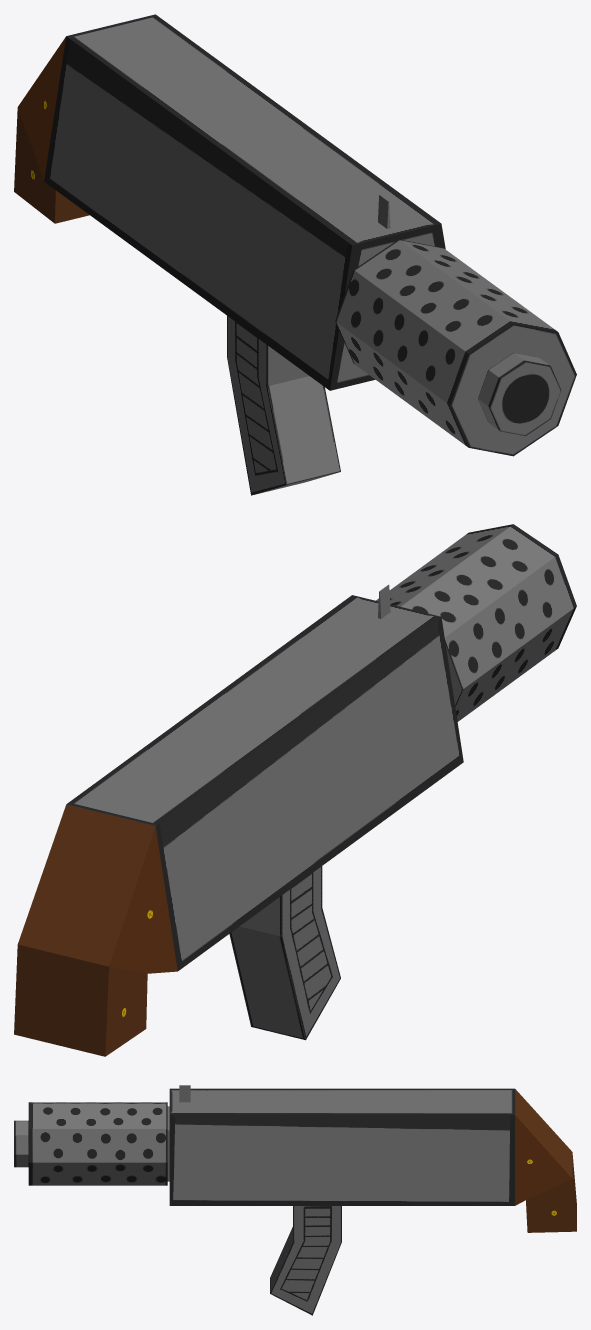
3 renders of one model, top to bottom at view 1: azimuth 30°, elevation 25°; view 2: azimuth 150°, elevation 25°; view 3: azimuth 270°, elevation 25°, orthographic. The views are drawn at different scales.
Visible parts, largest first — view 1: AK47; view 2: AK47; view 3: AK47.
Boxes of the visible parts, box(x1,y1,x2,y2) form: AK47: box(14, 14, 576, 495); AK47: box(14, 524, 576, 1056); AK47: box(14, 1085, 576, 1315).
Size of the model in its own units: 2 by 5.26 by 12.06.
Materials: 1 (1 with a texture image).
